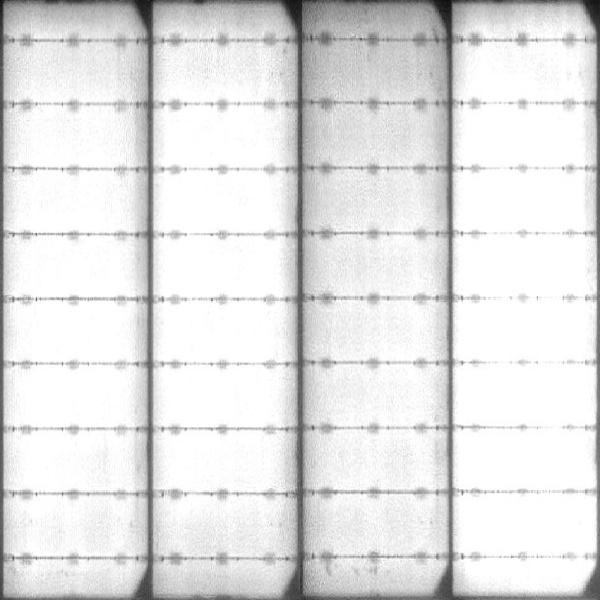hot_spot: (463, 175, 590, 231), (463, 367, 584, 425), (462, 432, 587, 484), (14, 242, 133, 296), (167, 239, 281, 294), (15, 308, 137, 359), (465, 240, 590, 289), (164, 307, 283, 358), (15, 178, 131, 230), (464, 304, 587, 353), (15, 371, 133, 422), (164, 437, 282, 488), (465, 502, 589, 550), (165, 372, 280, 423), (164, 112, 271, 165), (24, 437, 135, 487), (164, 179, 280, 226), (471, 112, 578, 162), (475, 563, 578, 589)
